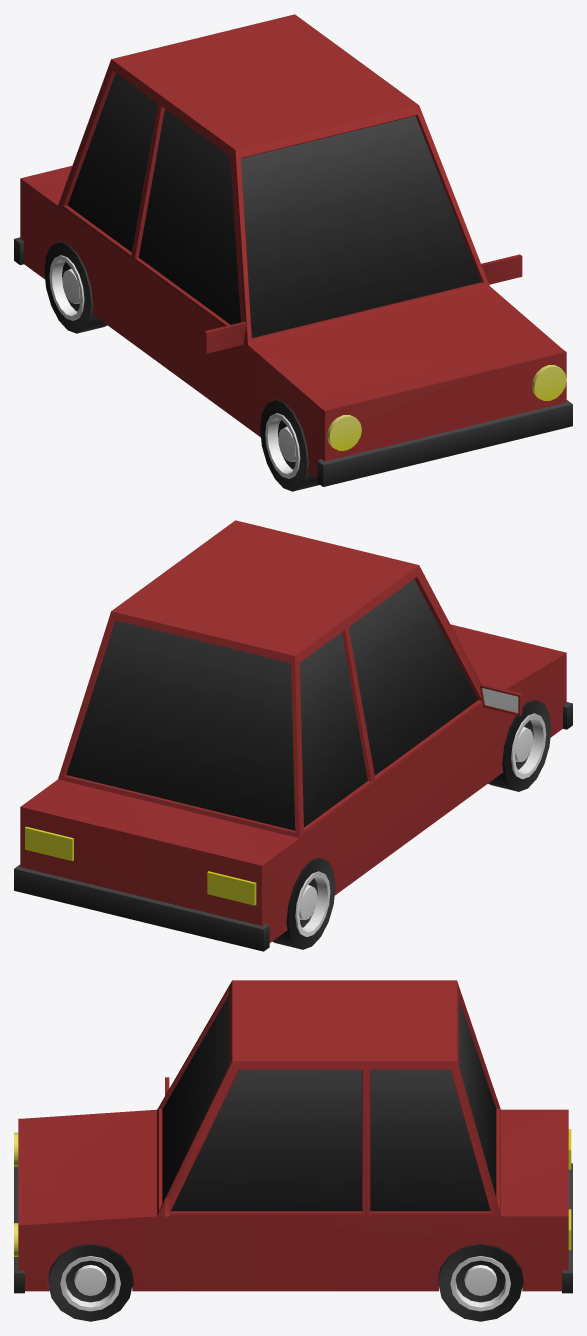
The model's file is redCar.fbx.
3 views of the same model, one above another, from view 1: azimuth 30°, elevation 25°; view 2: azimuth 150°, elevation 25°; view 3: azimuth 270°, elevation 25° (orthographic). The views are drawn at different scales.
Parts seen in each view (by area): view 1: carBody, tire3, tire2, carHeadlight, carHeadlight1, carMirror1, carMirror; view 2: carBody, tire3, tire2, carMirror1; view 3: carBody, tire, tire1.
Boxes of the visible parts, x1,y1,x2,y2 form: carBody: [14, 14, 572, 486]; tire3: [44, 241, 107, 333]; tire2: [260, 399, 319, 491]; carHeadlight: [532, 365, 566, 400]; carHeadlight1: [327, 415, 361, 450]; carMirror1: [204, 321, 247, 353]; carMirror: [481, 254, 522, 284]; carBody: [14, 520, 572, 951]; tire3: [272, 857, 335, 949]; tire2: [488, 699, 551, 791]; carMirror1: [479, 684, 522, 715]; carBody: [14, 980, 572, 1293]; tire: [438, 1243, 522, 1321]; tire1: [48, 1243, 132, 1321].
Size of the model in its own units: 194 by 161 by 330.
Materials: 1 (1 with a texture image).
